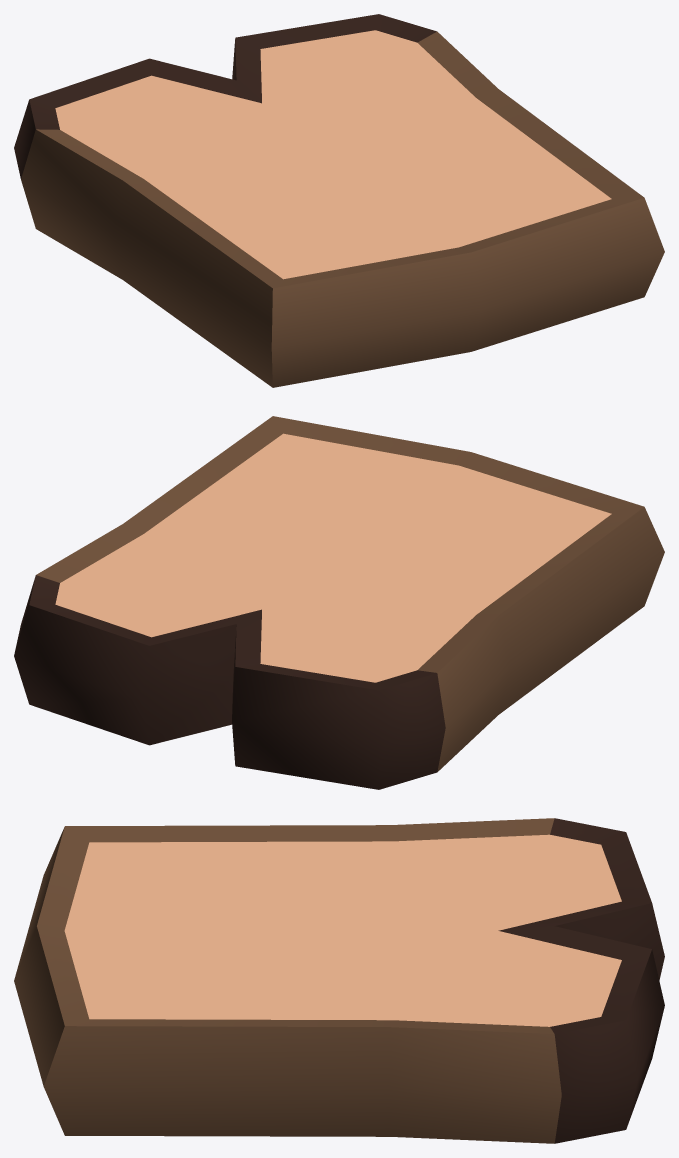
The model's file is Toast.fbx.
3 views of the same model, one above another, from view 1: azimuth 30°, elevation 25°; view 2: azimuth 150°, elevation 25°; view 3: azimuth 270°, elevation 25° (orthographic). The views are drawn at different scales.
Parts seen in each view (by area): view 1: Toast; view 2: Toast; view 3: Toast.
Part boxes in pixels (x1,y1,x2,y2): Toast: (14, 14, 664, 387); Toast: (14, 416, 664, 789); Toast: (14, 818, 664, 1143).
Size of the model in its own units: 187 by 41.77 by 225.
